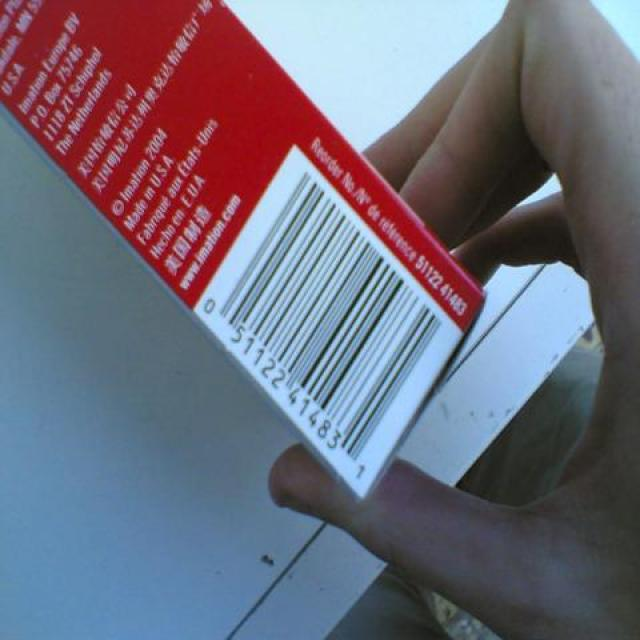Barcode: (183, 139, 465, 505)
